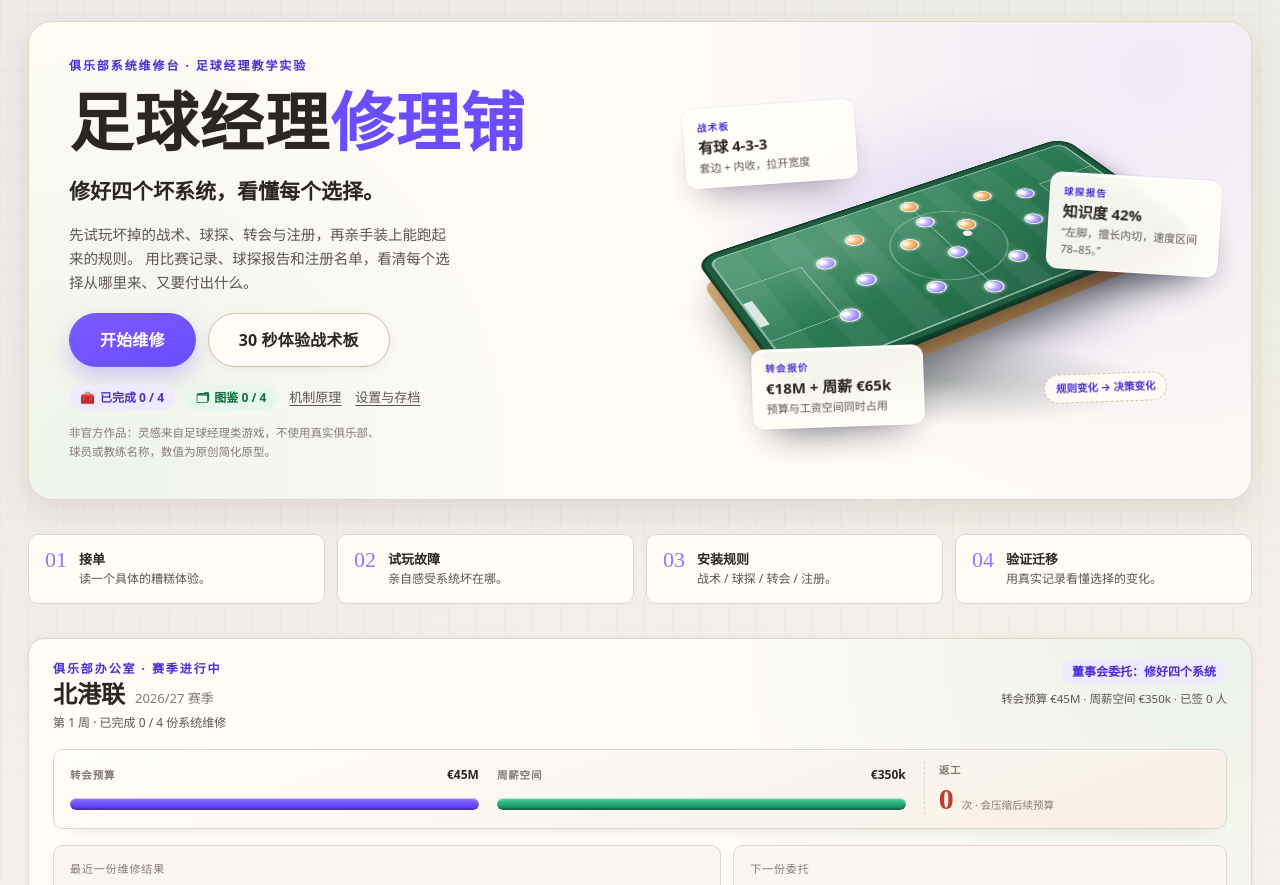
it: 用户流程冒烟测试（足球经理题材） › 主页可以打开机制原理馆，并读到四关底层机制
Click the button "机制原理" at (315, 398), box top-left (287, 387), bottom-right (343, 408)
(page scrolled)
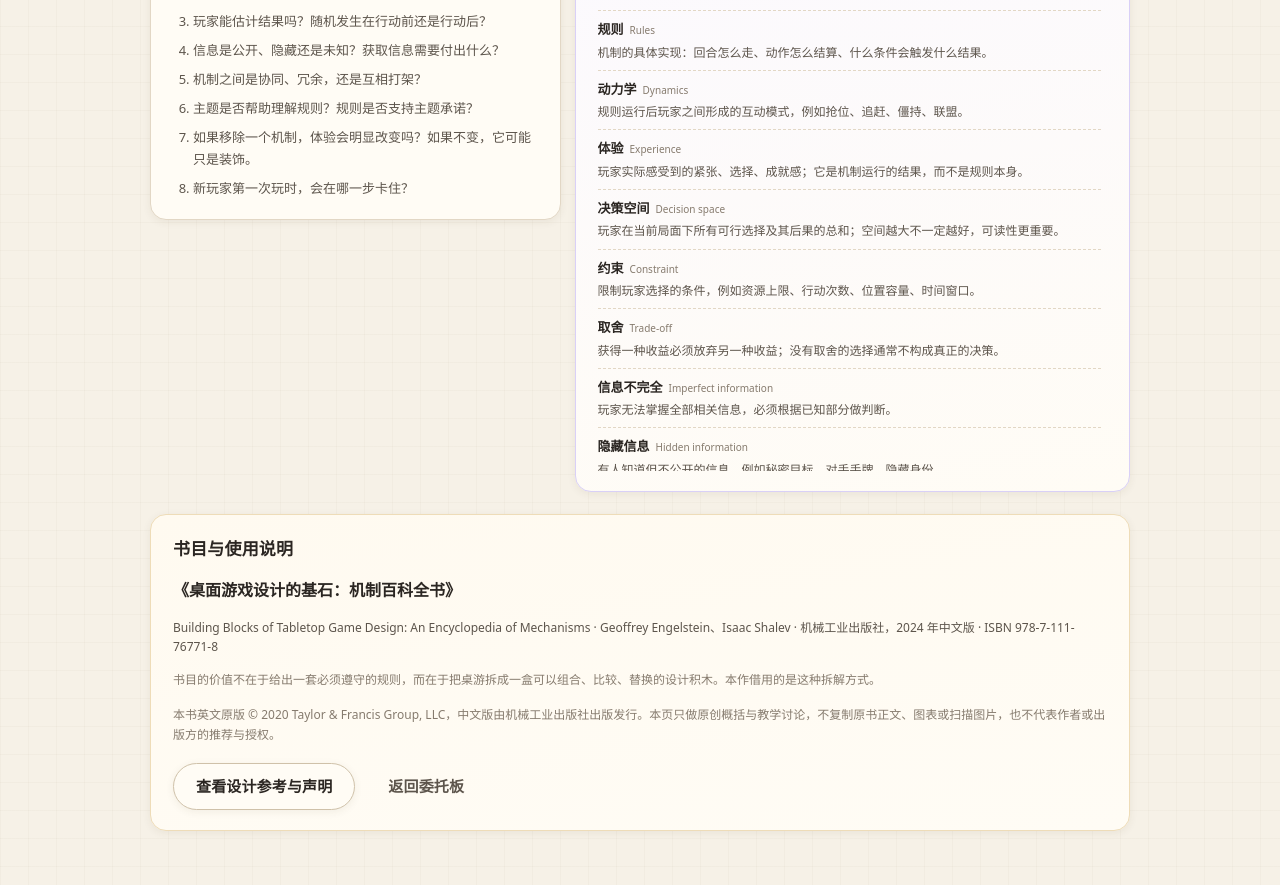
Check: the text "《桌面游戏设计的基石：机制百科全书》" is shown, box top-left (173, 580), bottom-right (461, 602)
